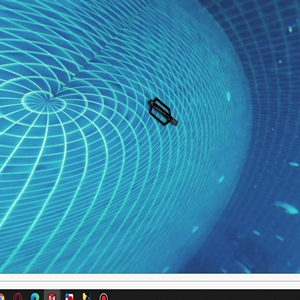submarine: (149, 99, 177, 127)
